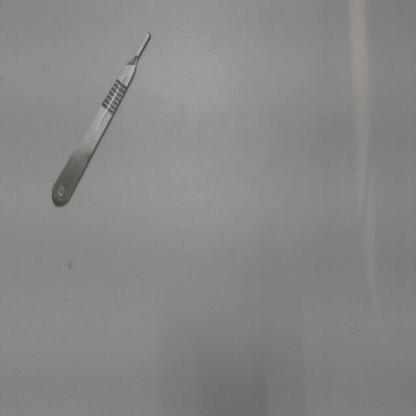No.3 BP Handle: (42, 23, 164, 221)
